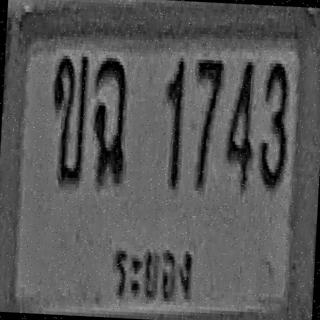A02: (48, 52, 88, 185)
A09: (90, 56, 129, 185)
N01: (161, 56, 186, 188)
N03: (258, 60, 290, 189)
N04: (224, 58, 256, 190)
N07: (191, 56, 224, 189)
P53: (105, 227, 201, 313)
